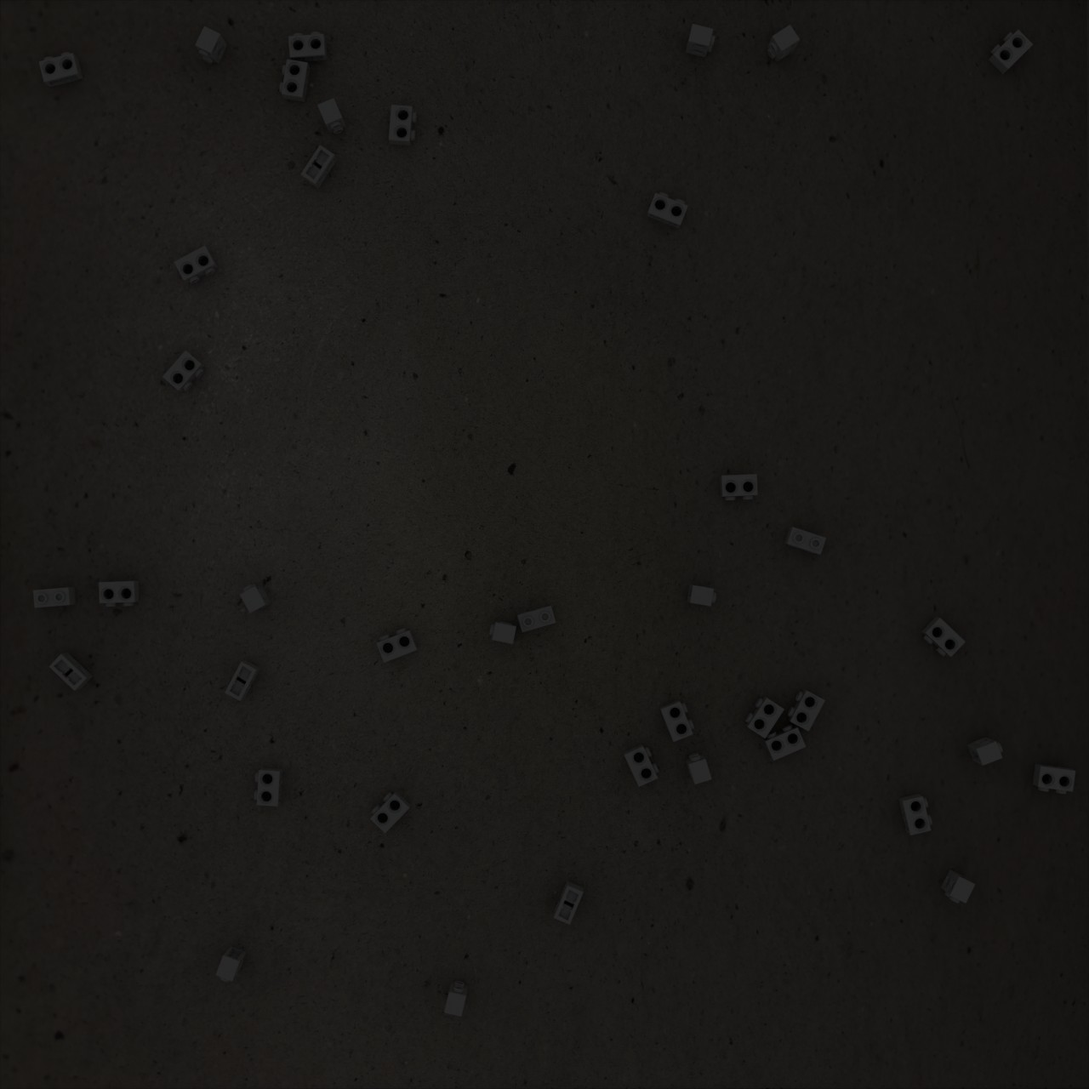lego: (988, 29, 1033, 75), (162, 350, 205, 392), (921, 617, 966, 657), (174, 245, 219, 284), (370, 791, 411, 833), (745, 696, 785, 739), (49, 652, 93, 691), (300, 145, 337, 189), (787, 689, 825, 731), (763, 724, 806, 761), (646, 192, 688, 229), (623, 744, 659, 787), (39, 52, 83, 87), (224, 660, 261, 701), (659, 700, 695, 742), (376, 628, 418, 663), (898, 793, 932, 835), (553, 881, 584, 925), (279, 59, 310, 102), (1032, 764, 1076, 794), (195, 26, 228, 64), (767, 24, 800, 62), (288, 32, 327, 63), (941, 869, 975, 904), (388, 105, 417, 146), (784, 527, 826, 555), (254, 767, 283, 806), (216, 946, 247, 982), (317, 98, 347, 134), (966, 737, 1003, 766), (517, 605, 556, 632), (99, 581, 139, 607), (685, 24, 715, 58), (720, 474, 758, 500), (240, 584, 272, 613), (33, 587, 76, 608), (685, 753, 712, 785), (444, 981, 468, 1017), (489, 621, 517, 644), (687, 584, 716, 606)
